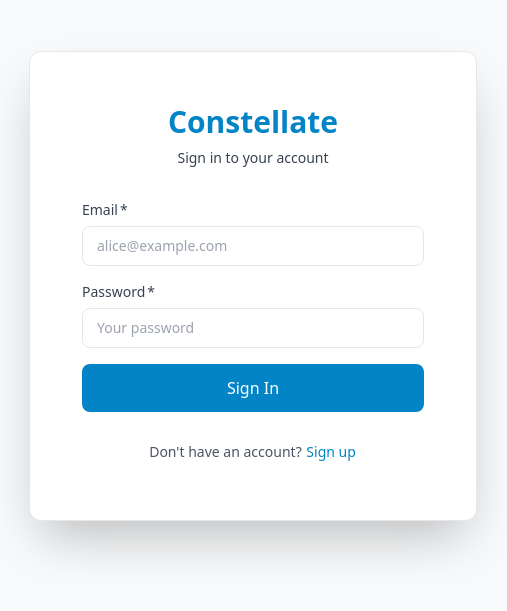
it: LoginPage › displays error message on failure
In the field labelled "Email": (253, 246) [82,226,424,266], type "bad@email"
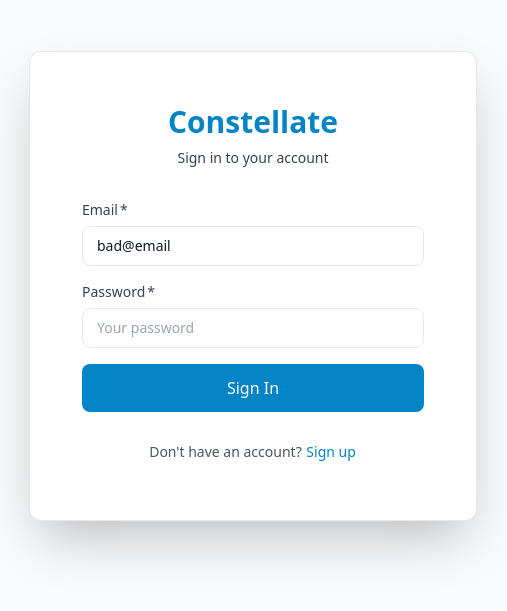
In the password field labelled "Password": (253, 328) [82,308,424,348], type "password123"
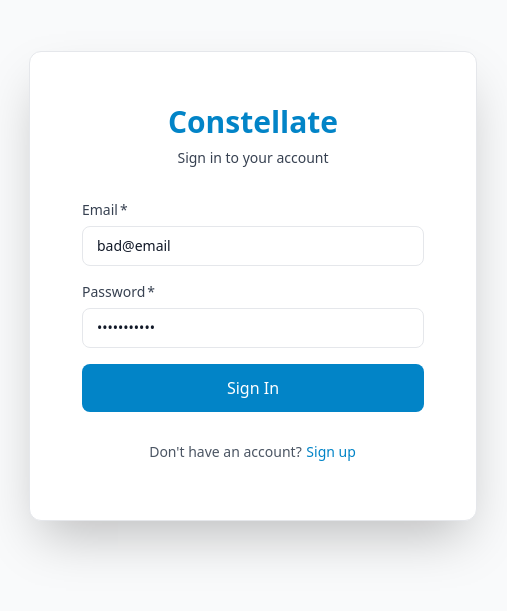
Click the button "Sign In": (253, 388) [82,364,424,412]
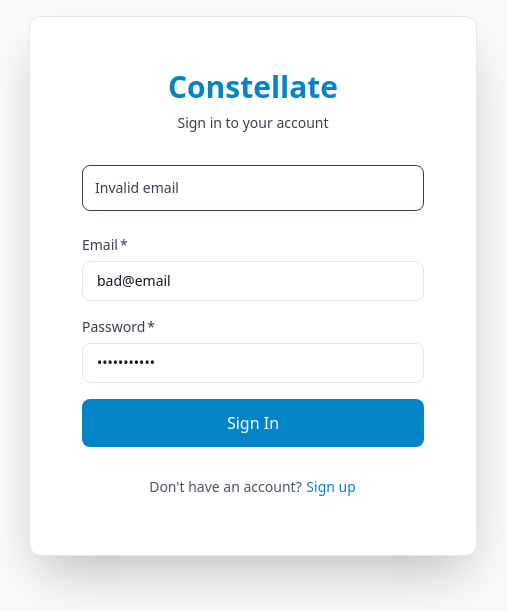
Expected: the text "Invalid email" is shown, [95,178,179,198]
